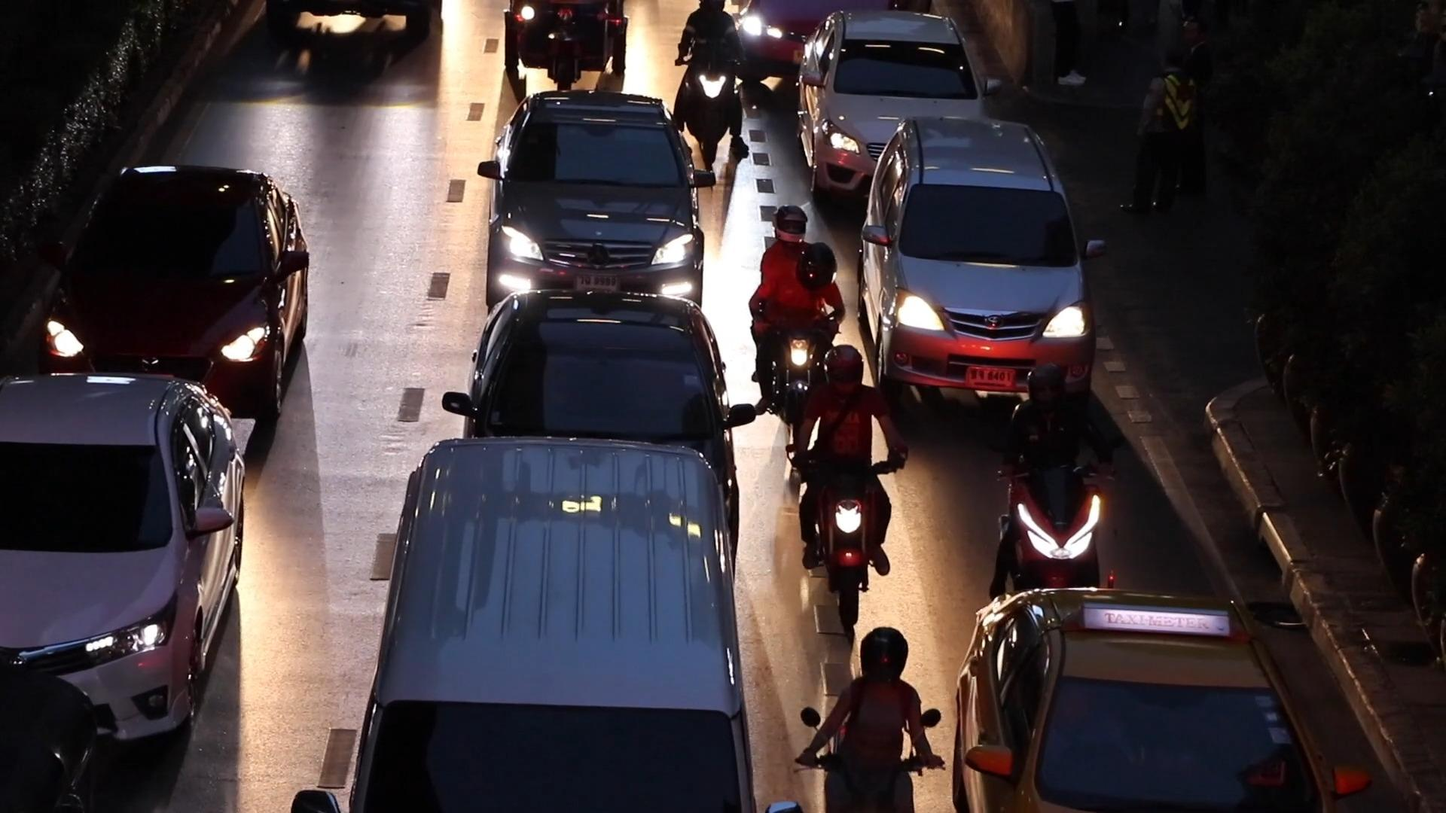driver: (785, 343, 908, 627), (989, 360, 1126, 601), (792, 627, 947, 813), (747, 205, 845, 443), (673, 0, 749, 164)
helmet: (860, 627, 908, 687), (822, 344, 865, 399), (1026, 361, 1068, 417), (794, 242, 838, 294), (771, 205, 809, 246)
